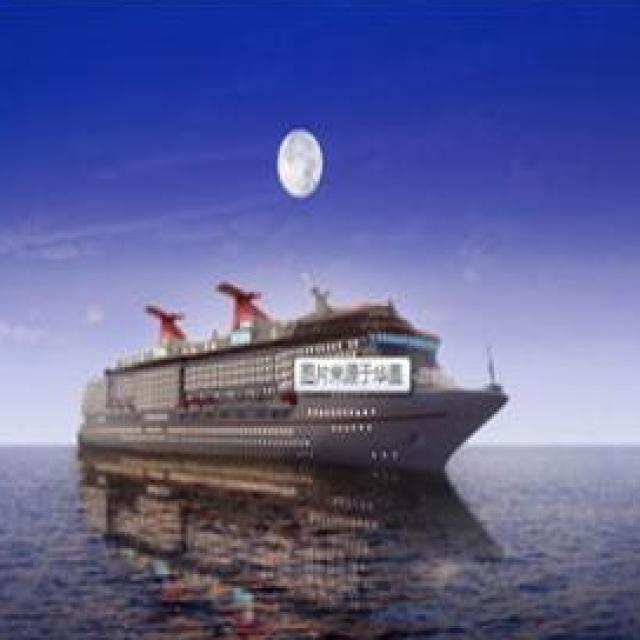passenger ship: (53, 270, 514, 467)
